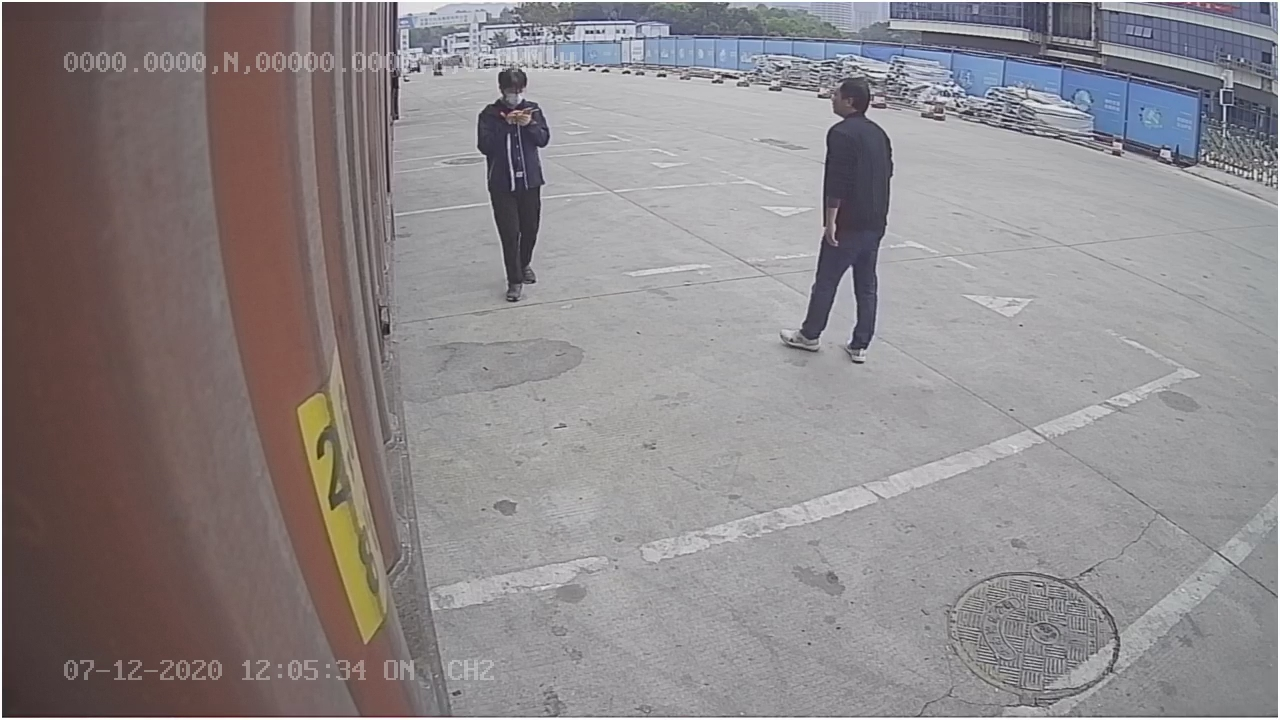person: (780, 67, 897, 366), (465, 67, 557, 303)
